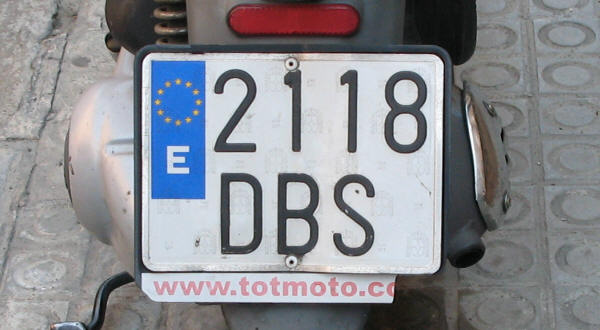license_plate: (134, 44, 440, 275)
